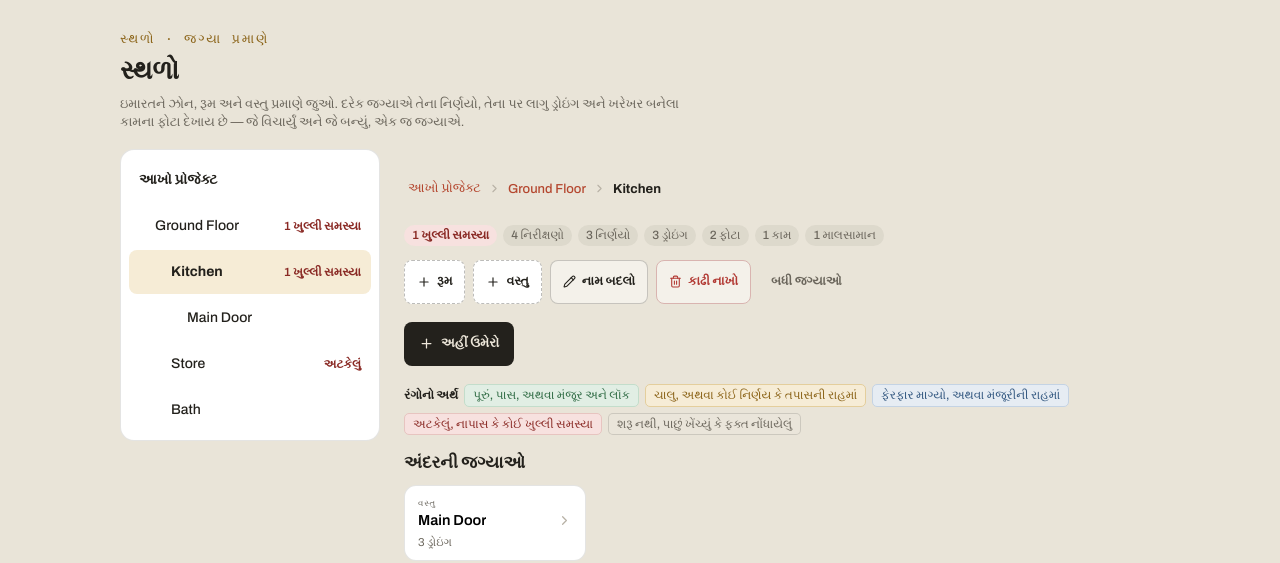
Test: the Site Map in gu (#482 QA item 3) › the PMC's add, rename and duplicate-name forms show no English
The width and height of the screenshot is (1280, 563).
Click the button with test id "place-add-object" at (508, 282), box [474, 260, 542, 304]
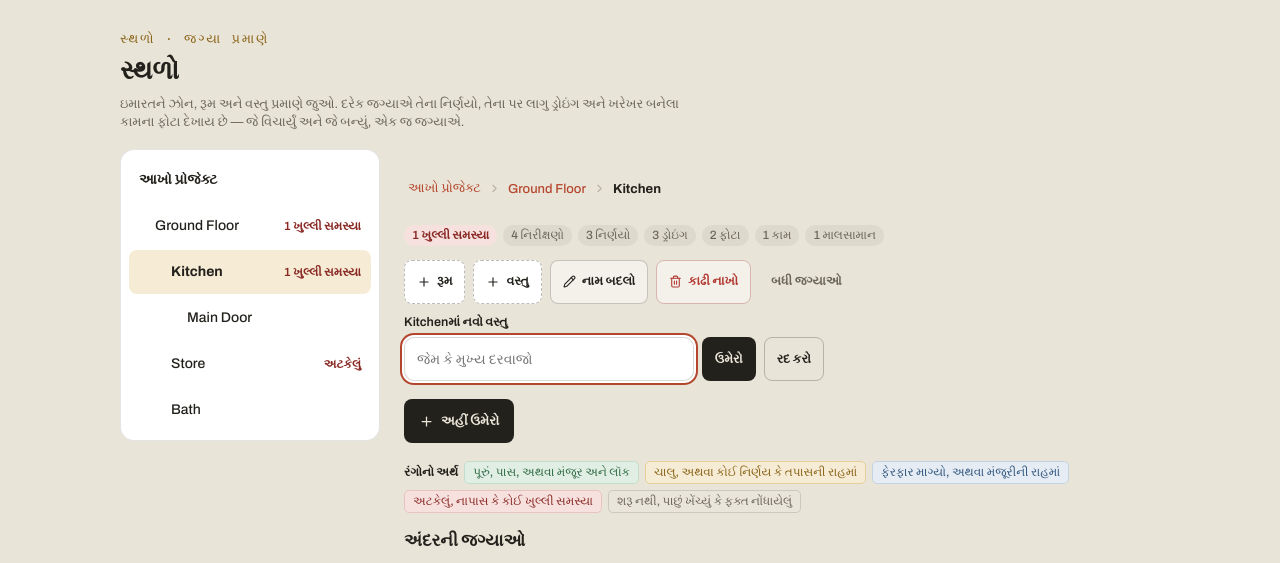
Click the button with test id "place-rename" at (599, 282), box [550, 260, 648, 304]
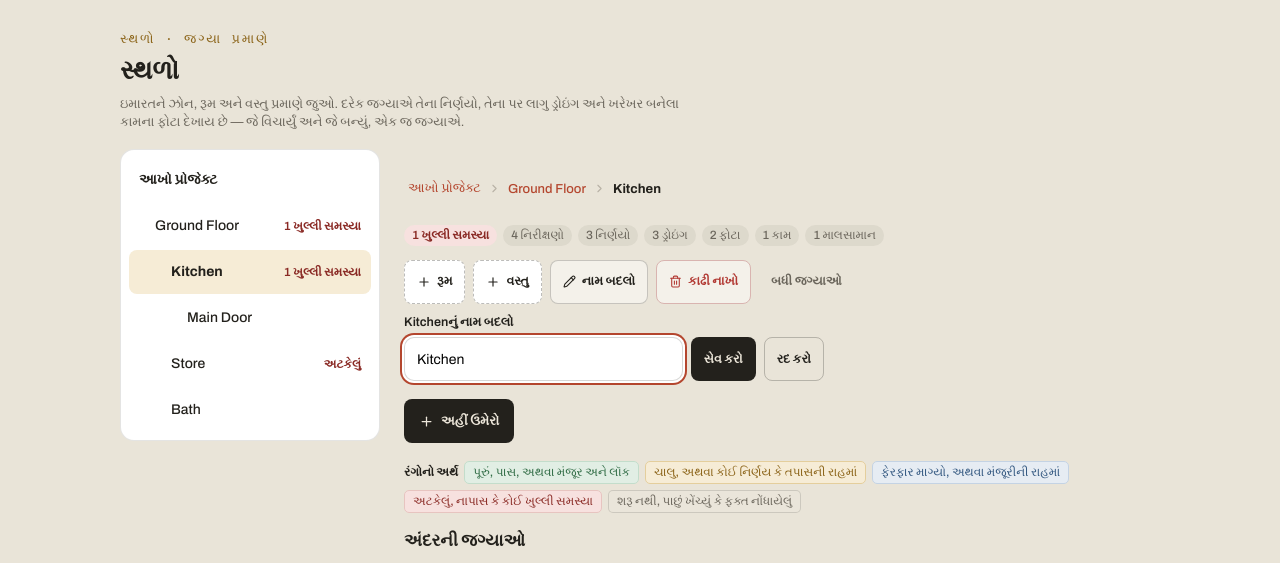
Replace the text in the field with test id "place-structure-input" with "Store" at (543, 359), box [404, 337, 683, 381]
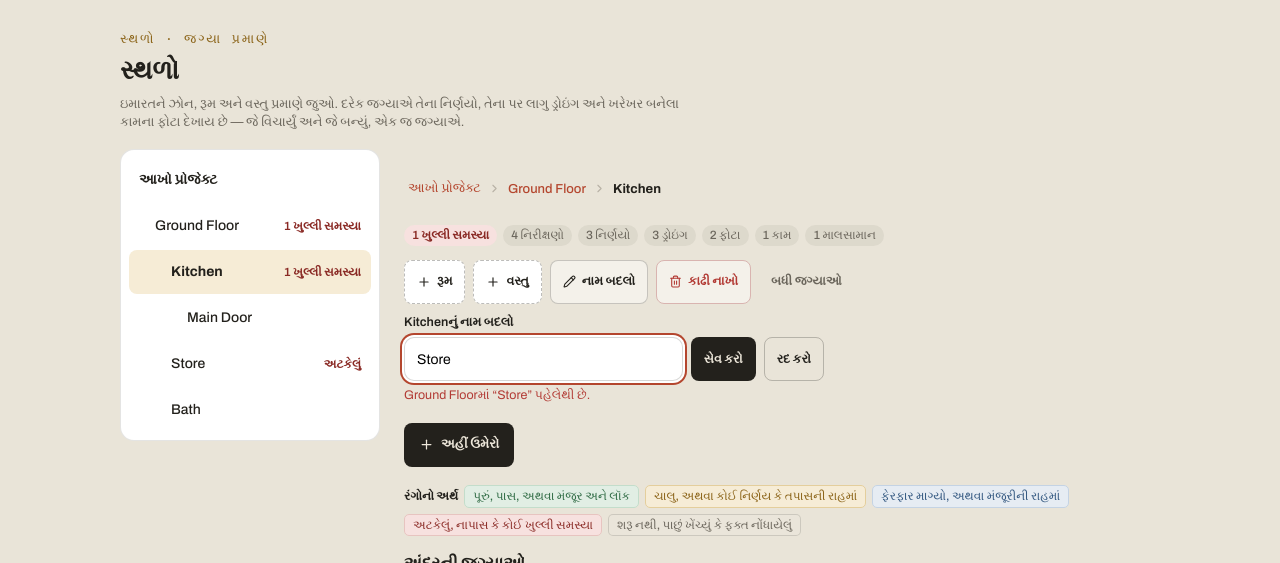
Expected: the message with test id "place-structure-duplicate" is shown, [404, 388, 590, 402]
